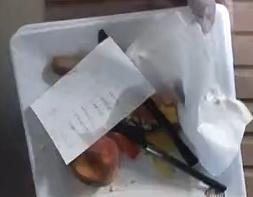fruit: (70, 132, 139, 184)
